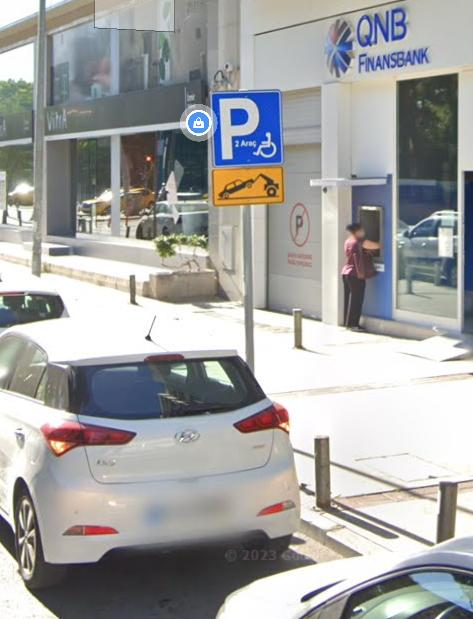disabledpark: (213, 91, 278, 163)
